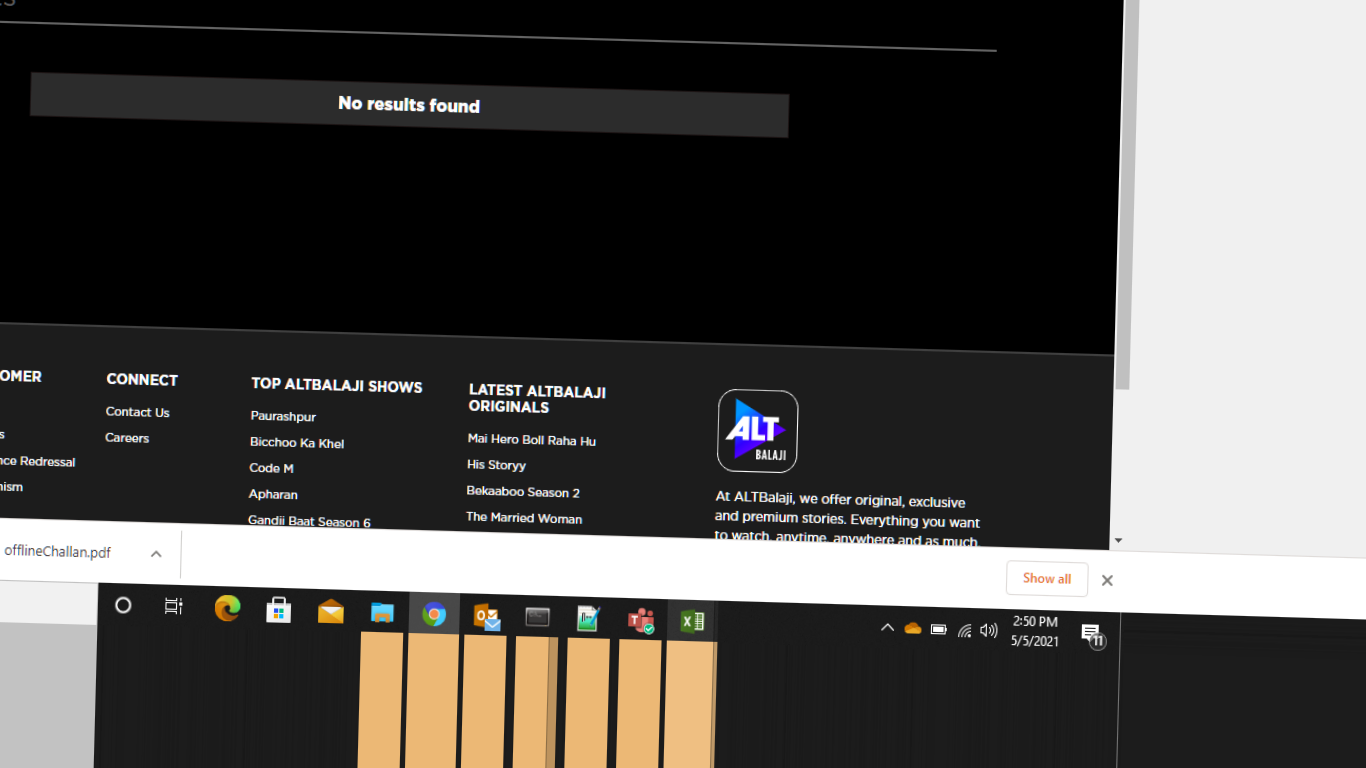noresultsfound: (316, 71, 559, 146)
